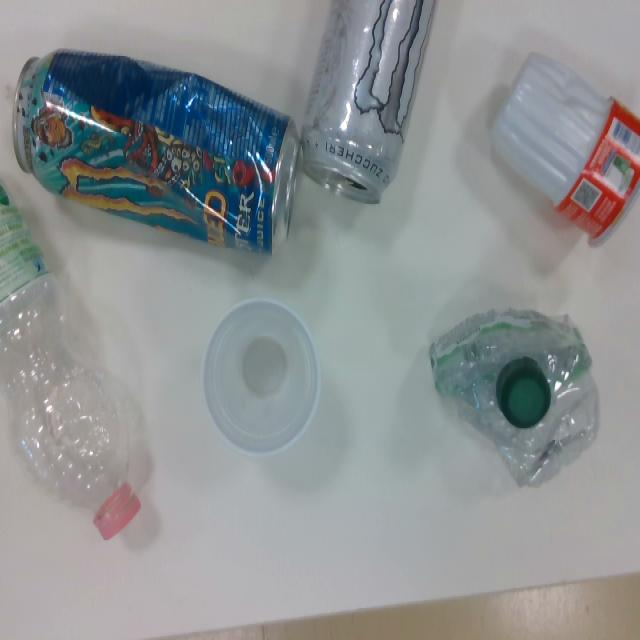aluminum: (0, 46, 303, 259), (303, 0, 442, 211)
plastic: (0, 174, 147, 546), (428, 296, 605, 487), (485, 51, 640, 249), (198, 298, 323, 460)
